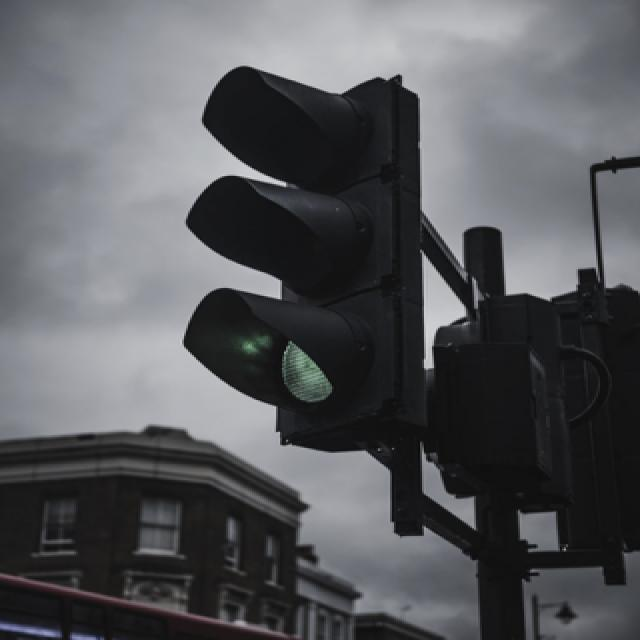trafficlight: (178, 61, 432, 446)
